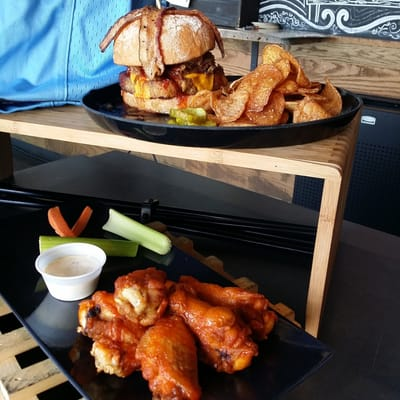soup: (99, 5, 228, 118)
sushi: (34, 243, 107, 303)
